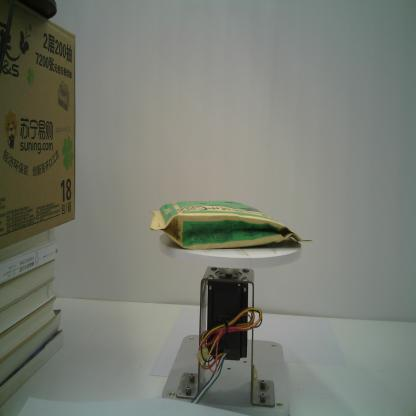Dried Food: (148, 199, 314, 250)
